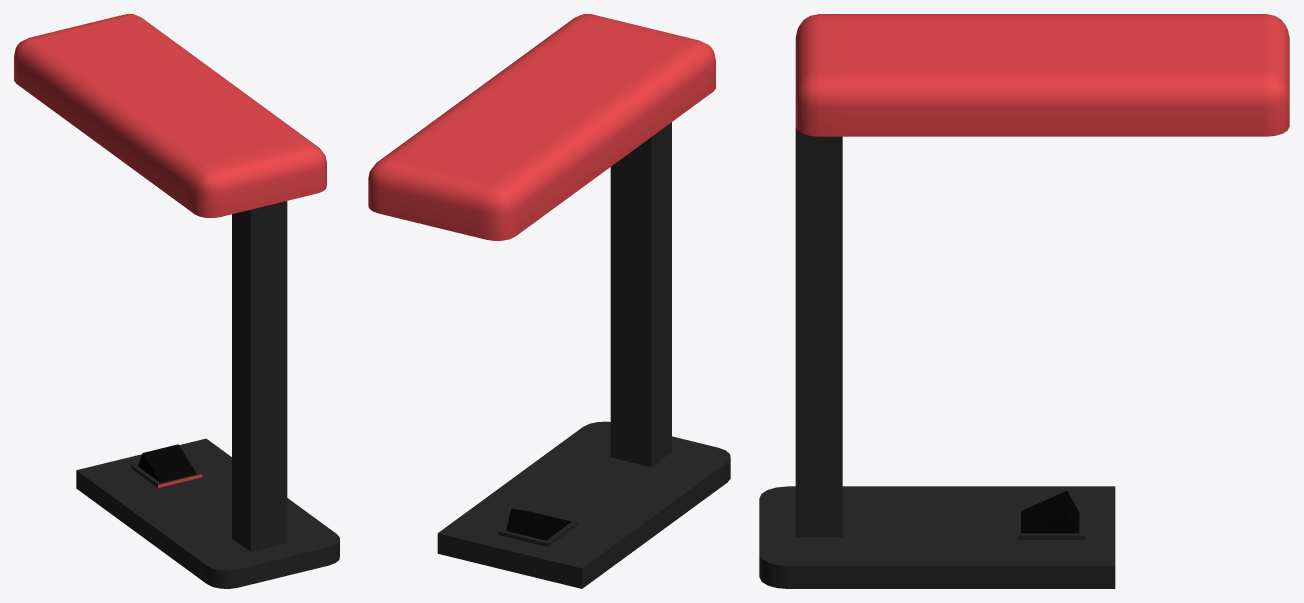
Rendered from SM_Lamp.fbx.
3 renders of one model, left to right at view 1: azimuth 30°, elevation 25°; view 2: azimuth 150°, elevation 25°; view 3: azimuth 270°, elevation 25°, orthographic. The views are drawn at different scales.
Parts seen in each view (by area): view 1: Cube.006, Lamp; view 2: Cube.006, Lamp; view 3: Cube.006, Lamp.
Part boxes in pixels (left/top/right/bottom): Cube.006: left=14, top=14, right=339, bottom=588; Lamp: left=138, top=444, right=196, bottom=482; Cube.006: left=368, top=14, right=730, bottom=588; Lamp: left=506, top=508, right=571, bottom=540; Cube.006: left=759, top=14, right=1289, bottom=588; Lamp: left=1021, top=490, right=1079, bottom=533.
Size of the model in its own units: 18.39 by 55.33 by 51.83.
